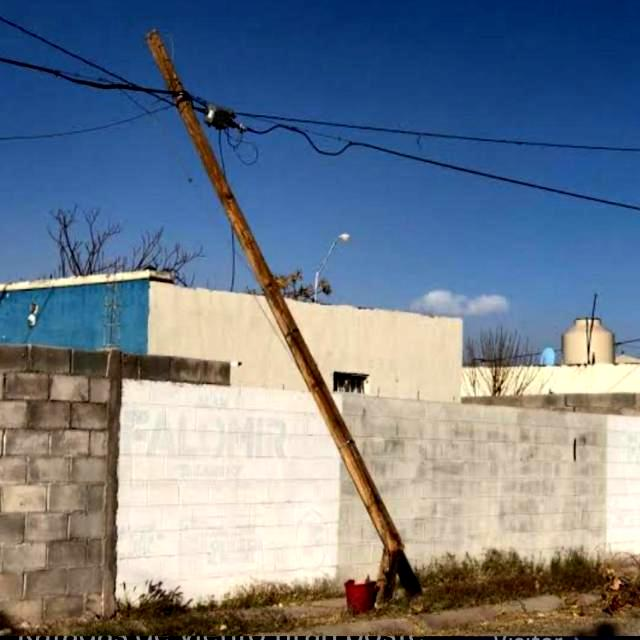Broken Pole: (142, 25, 425, 609)
